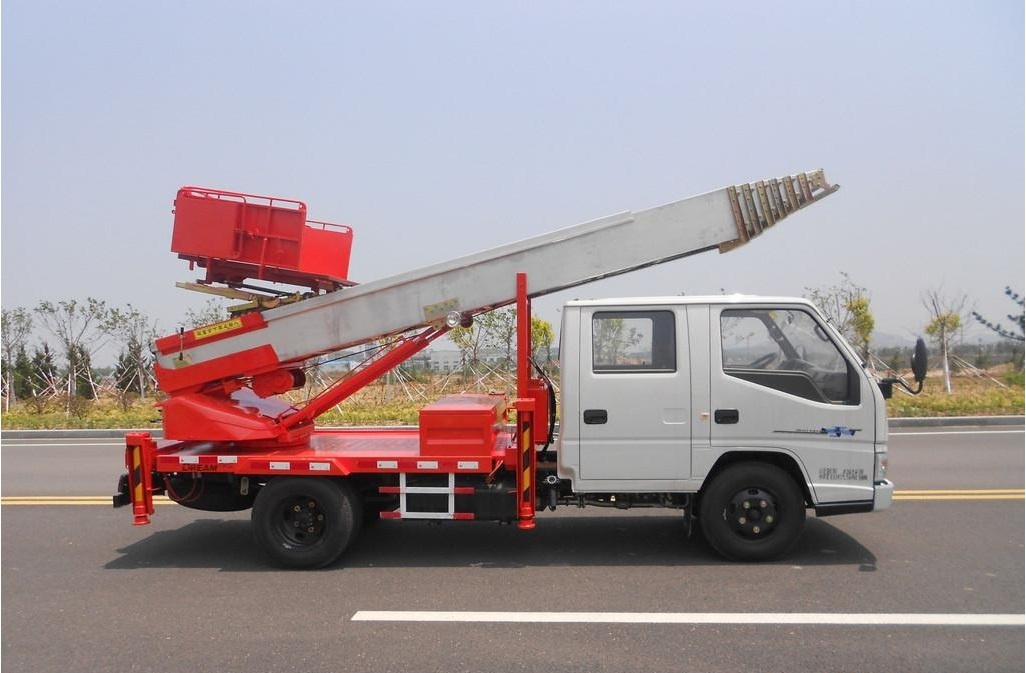fire engine: (126, 164, 930, 564)
